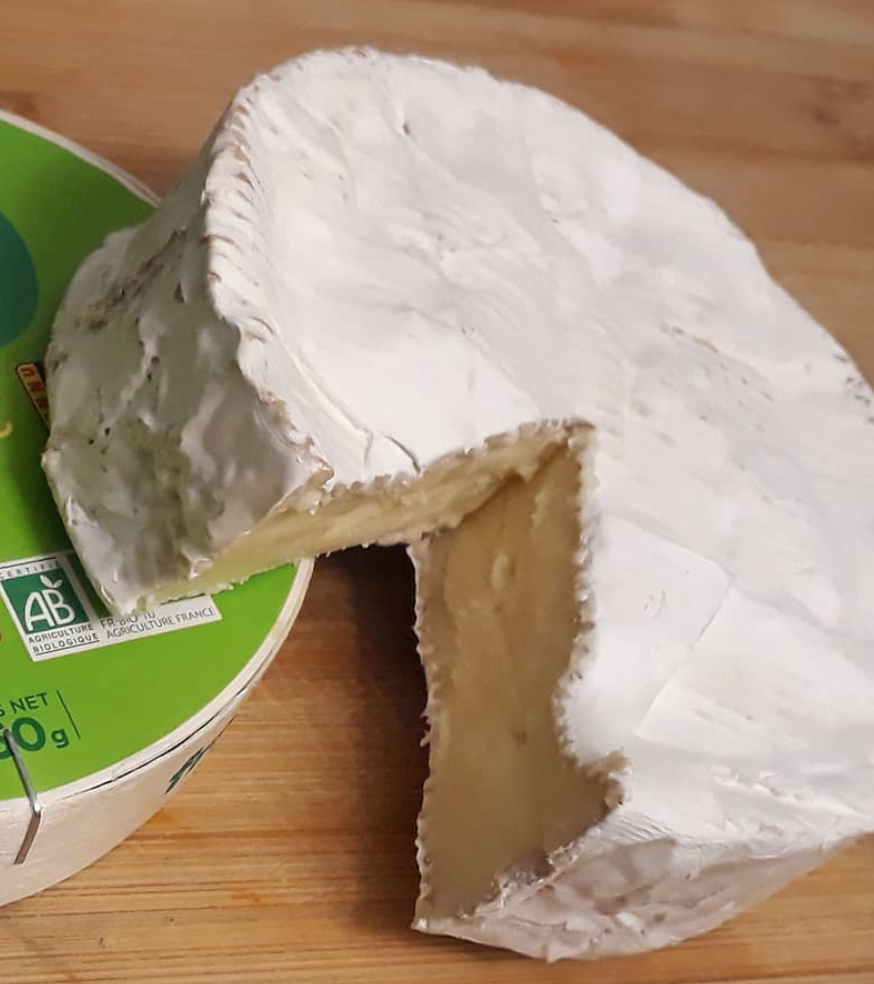camembert: (40, 43, 874, 966)
